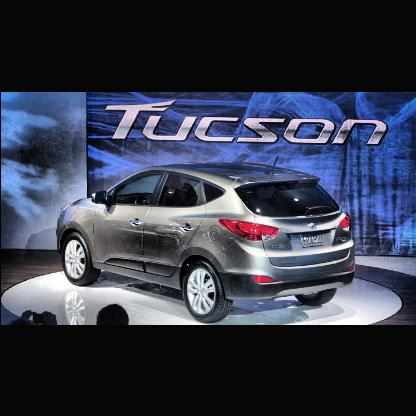Hyundai Veracruz SUV 2012: (56, 163, 357, 323)
